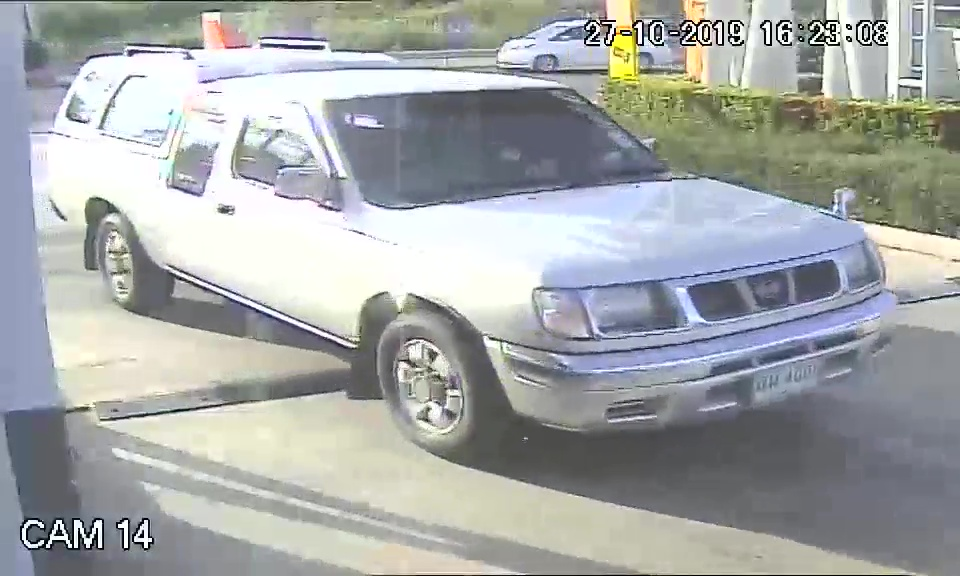pickup: (42, 39, 903, 459)
